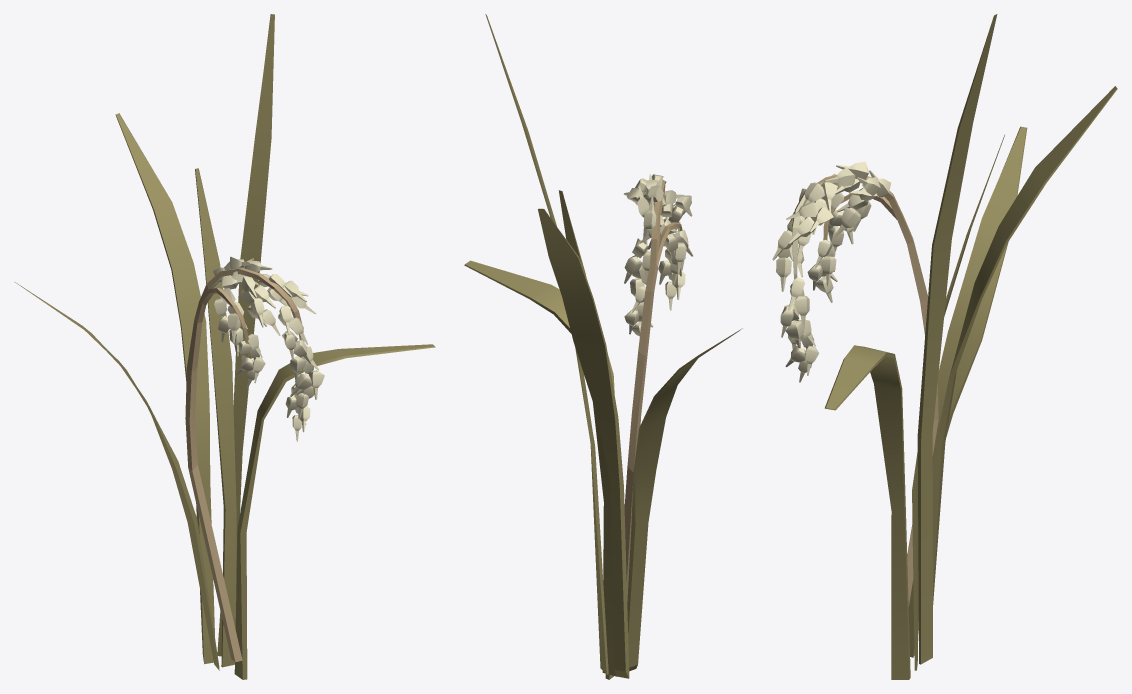
Rendered from wheat_plant.glb.
3 views of the same model, side by side, from view 1: azimuth 30°, elevation 25°; view 2: azimuth 150°, elevation 25°; view 3: azimuth 270°, elevation 25° (orthographic). The views are drawn at different scales.
Parts seen in each view (by area): view 1: Object_3, Object_4; view 2: Object_3, Object_4; view 3: Object_3, Object_4.
Part boxes in pixels (bbox=[...]): Object_3: bbox=[15, 14, 435, 679]; Object_4: bbox=[185, 256, 324, 662]; Object_3: bbox=[464, 14, 742, 679]; Object_4: bbox=[624, 174, 693, 600]; Object_3: bbox=[824, 14, 1117, 679]; Object_4: bbox=[772, 161, 938, 606].
Size of the model in its own units: 37.52 by 65.75 by 29.21.
